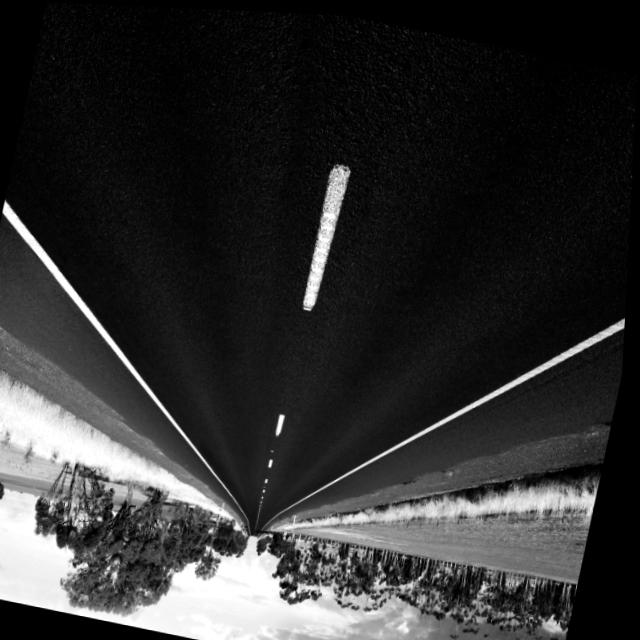cleat: (0, 2, 625, 562)
